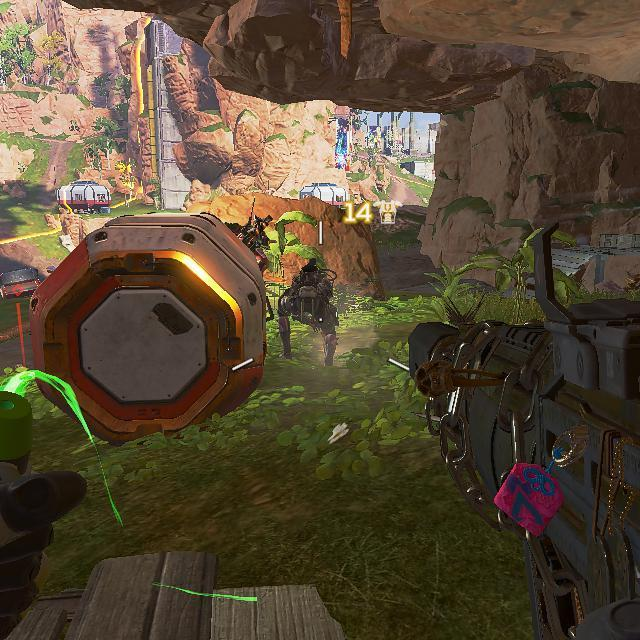avatar: (277, 258, 339, 368)
